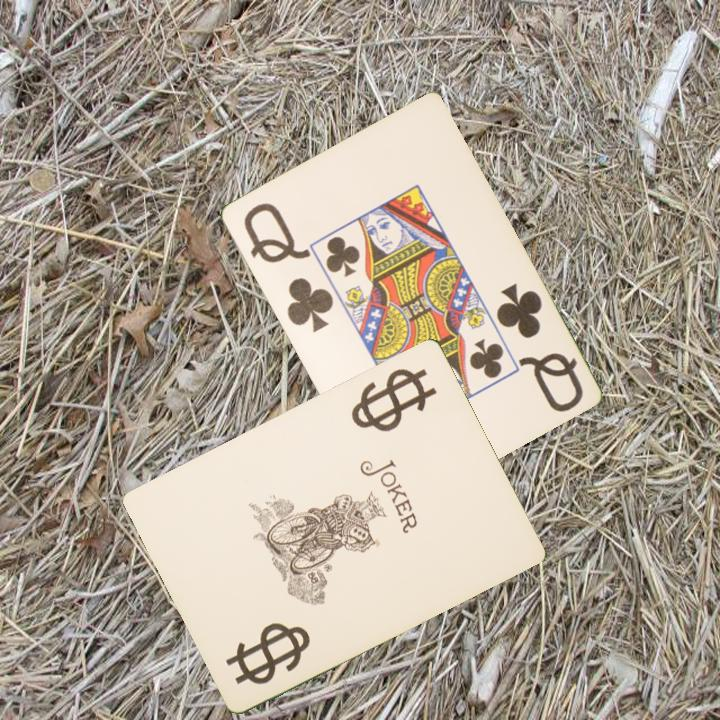JK: (222, 621, 314, 687), (353, 369, 424, 425)
Qc: (239, 198, 336, 336), (492, 279, 586, 415)
